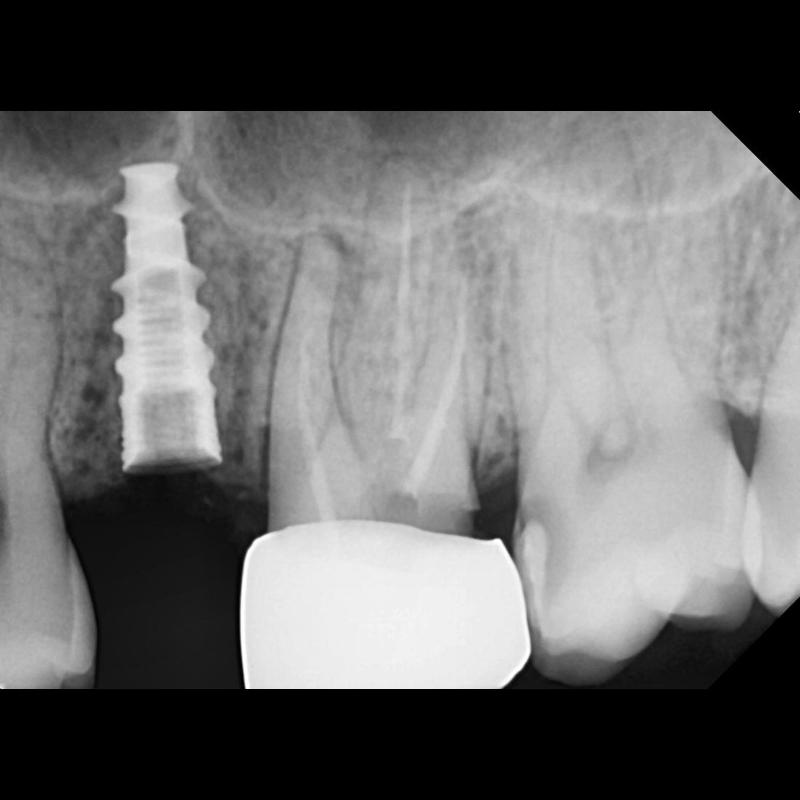NORIS: (108, 157, 228, 476)
